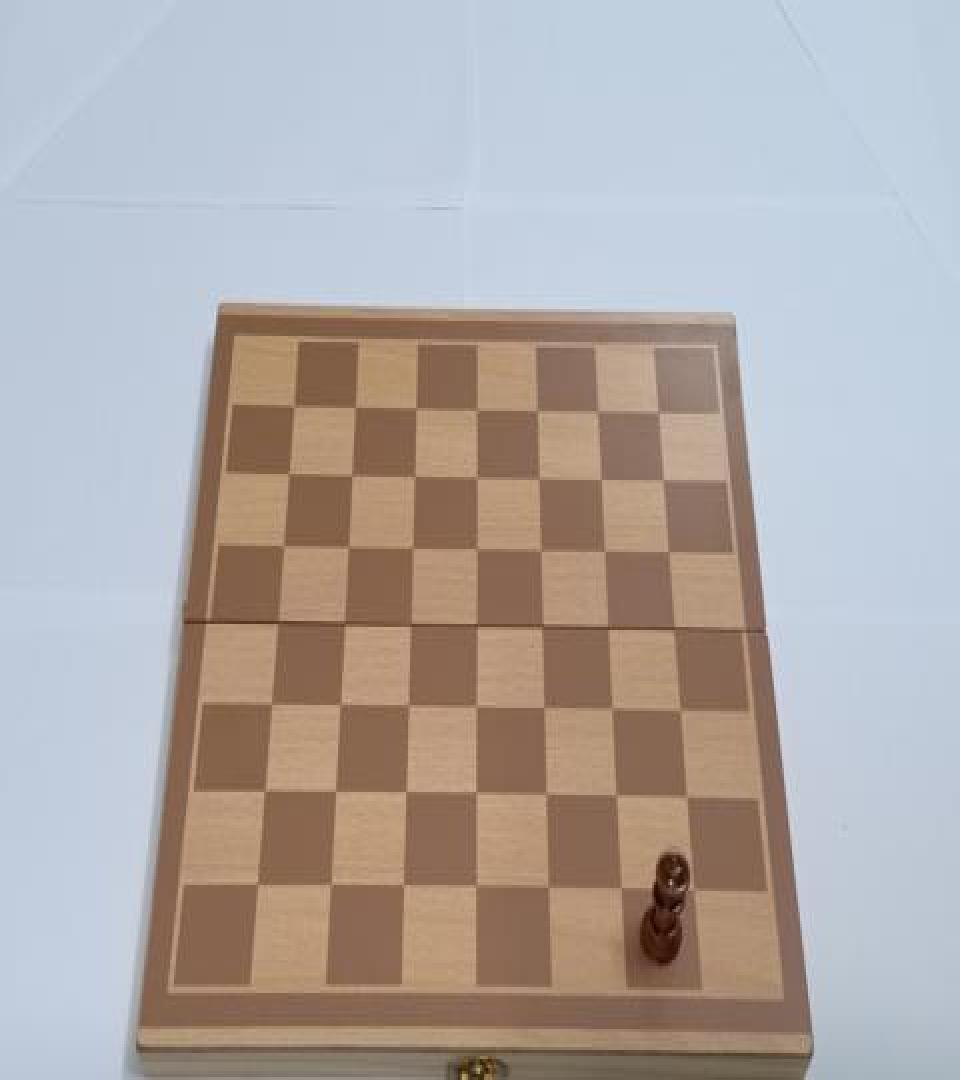xcorner: (341, 460, 359, 488), (403, 460, 421, 488), (466, 694, 484, 722), (527, 394, 545, 422), (534, 694, 552, 722), (588, 394, 606, 422), (278, 459, 296, 486), (273, 532, 291, 559), (267, 609, 285, 636), (254, 778, 272, 805), (337, 532, 355, 559), (333, 610, 351, 637), (325, 778, 343, 805), (405, 393, 423, 420), (401, 534, 419, 561), (399, 610, 417, 637), (397, 693, 415, 720), (395, 780, 413, 807), (393, 873, 411, 900), (466, 393, 484, 420), (466, 462, 484, 489), (466, 612, 484, 639), (465, 874, 483, 901), (538, 874, 556, 901), (595, 537, 613, 564), (602, 696, 620, 723), (607, 783, 625, 810), (611, 876, 629, 903), (649, 396, 667, 423), (654, 465, 672, 492), (659, 537, 677, 564), (665, 615, 683, 642), (671, 696, 689, 723), (677, 785, 695, 812), (284, 392, 302, 418), (261, 692, 279, 718), (247, 872, 265, 898), (344, 392, 362, 418), (329, 692, 347, 718), (320, 872, 338, 898), (466, 536, 484, 562), (466, 782, 484, 808), (529, 464, 547, 490), (530, 536, 548, 562), (532, 614, 550, 640), (536, 782, 554, 808), (591, 464, 609, 490), (598, 614, 616, 640), (684, 878, 702, 904)
